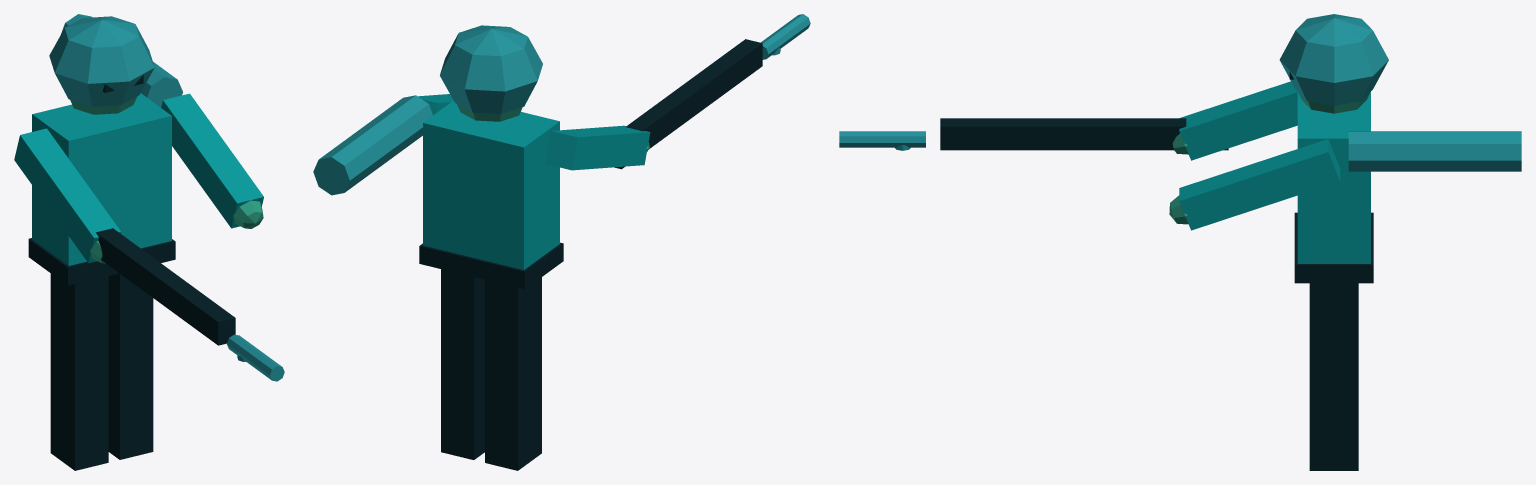
Rendered from SM_Champion_9003_Cyla.glb.
3 views of the same model, side by side, from view 1: azimuth 30°, elevation 25°; view 2: azimuth 150°, elevation 25°; view 3: azimuth 270°, elevation 25° (orthographic). The views are drawn at different scales.
Visible parts, largest first — view 1: SM_Champion_9003_Cyla; view 2: SM_Champion_9003_Cyla; view 3: SM_Champion_9003_Cyla.
Part boxes in pixels (x1,y1,x2,y2): SM_Champion_9003_Cyla: (14,14,284,470); SM_Champion_9003_Cyla: (313,14,810,470); SM_Champion_9003_Cyla: (839,14,1521,470).
Bounding box in the file's own units: 0.6788 × 1.61 × 2.29.
